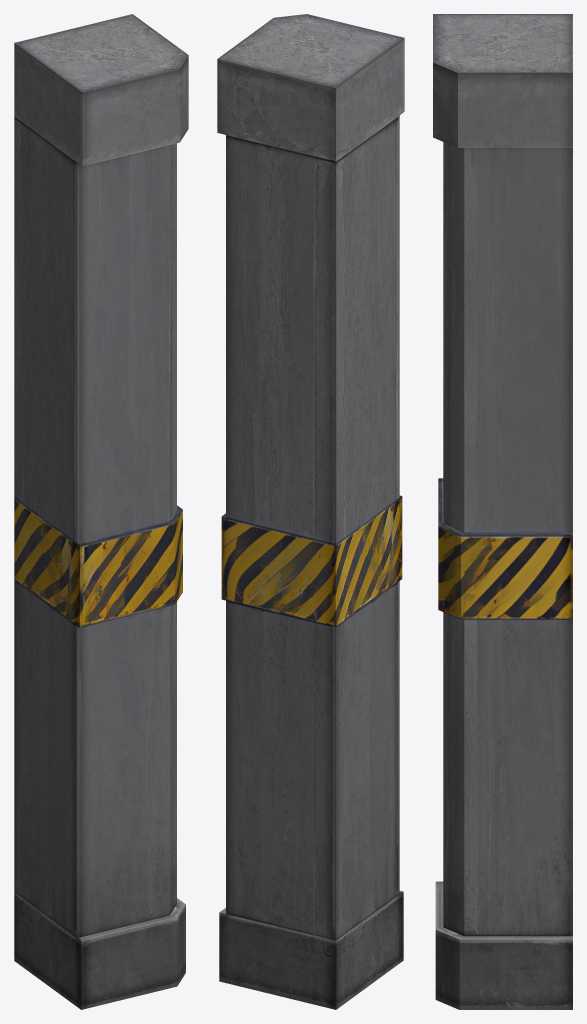
The model's file is kit_wall_low_corner.glb.
The picture shows the model from 3 angles, left to right: view 1: azimuth 30°, elevation 25°; view 2: azimuth 150°, elevation 25°; view 3: azimuth 270°, elevation 25°; orthographic projection. The views are drawn at different scales.
Parts seen in each view (by area): view 1: kit_wall_low_corner.001; view 2: kit_wall_low_corner.001; view 3: kit_wall_low_corner.001.
Part boxes in pixels (x1,y1,x2,y2): kit_wall_low_corner.001: [14, 14, 188, 1009]; kit_wall_low_corner.001: [217, 14, 404, 1009]; kit_wall_low_corner.001: [433, 14, 572, 1009].
Size of the model in its own units: 0.54 by 4 by 0.54.
1 material, 1 textured.
